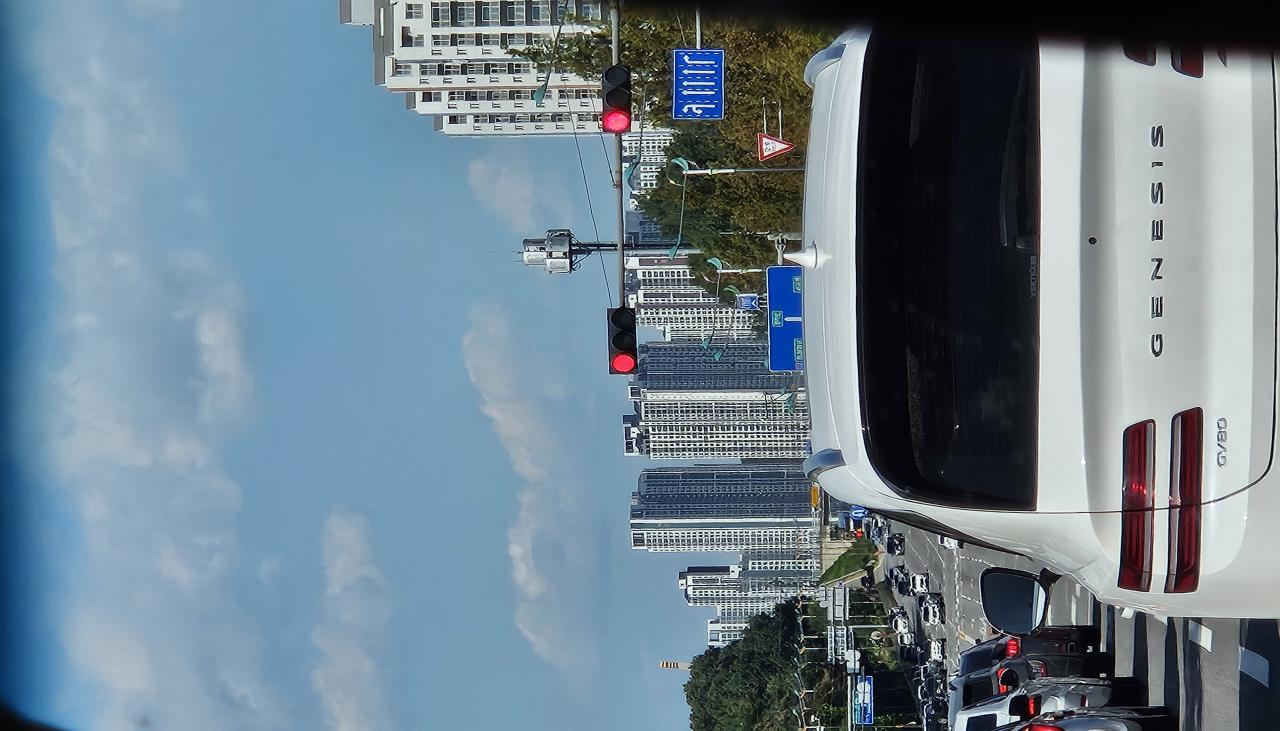Red Light: (469, 464, 497, 486), (786, 459, 815, 479)
